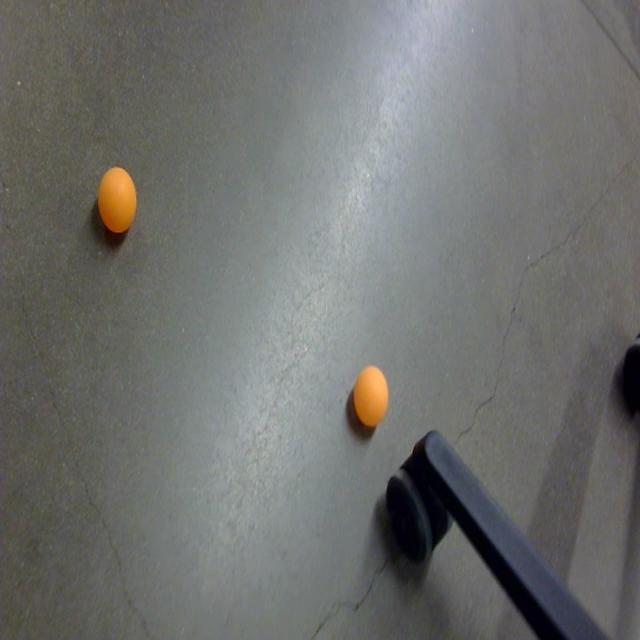ball: (96, 165, 138, 237), (354, 363, 390, 432)
